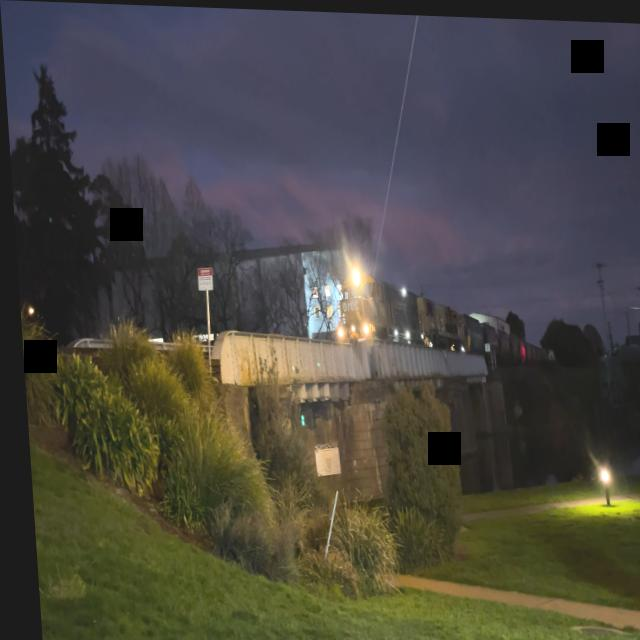locomotive: (328, 259, 416, 347)
